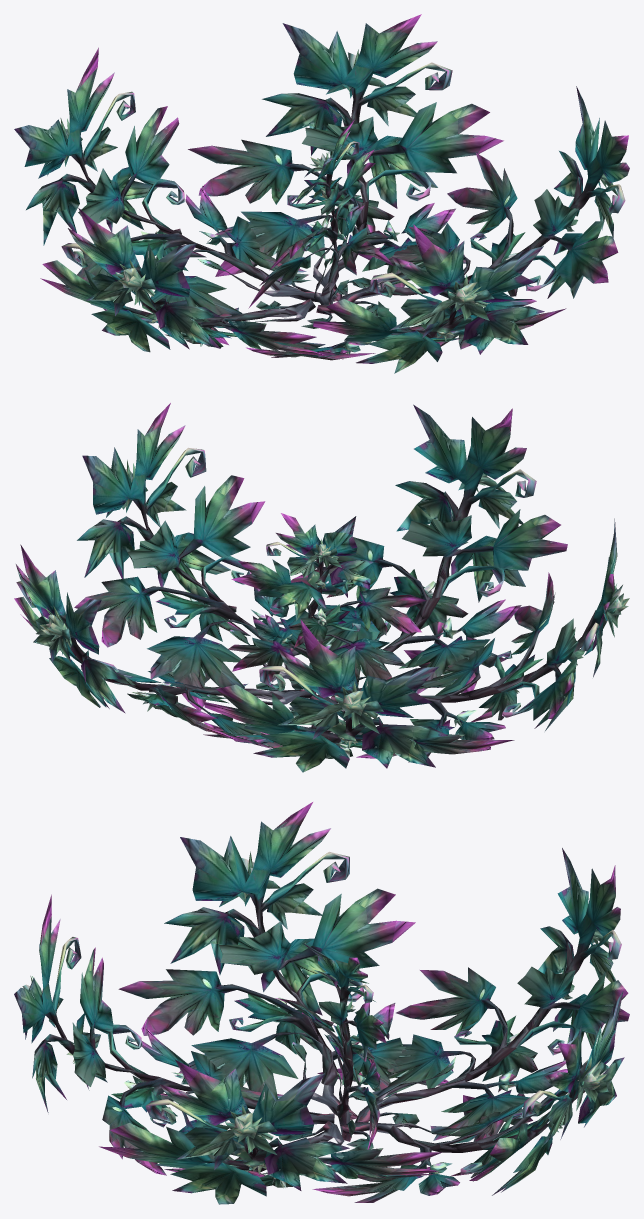
Rendered from starfish.glb.
The picture shows the model from 3 angles, top to bottom: view 1: azimuth 30°, elevation 25°; view 2: azimuth 150°, elevation 25°; view 3: azimuth 270°, elevation 25°; orthographic projection. The views are drawn at different scales.
Visible parts, largest first — view 1: Mesh; view 2: Mesh; view 3: Mesh.
Part boxes in pixels (<box>): Mesh: <box>14,14,629,373</box>; Mesh: <box>14,403,629,772</box>; Mesh: <box>14,802,629,1204</box>.
Bounding box in the file's own units: 1.52 × 0.5669 × 1.46.
1 material, 1 textured.
